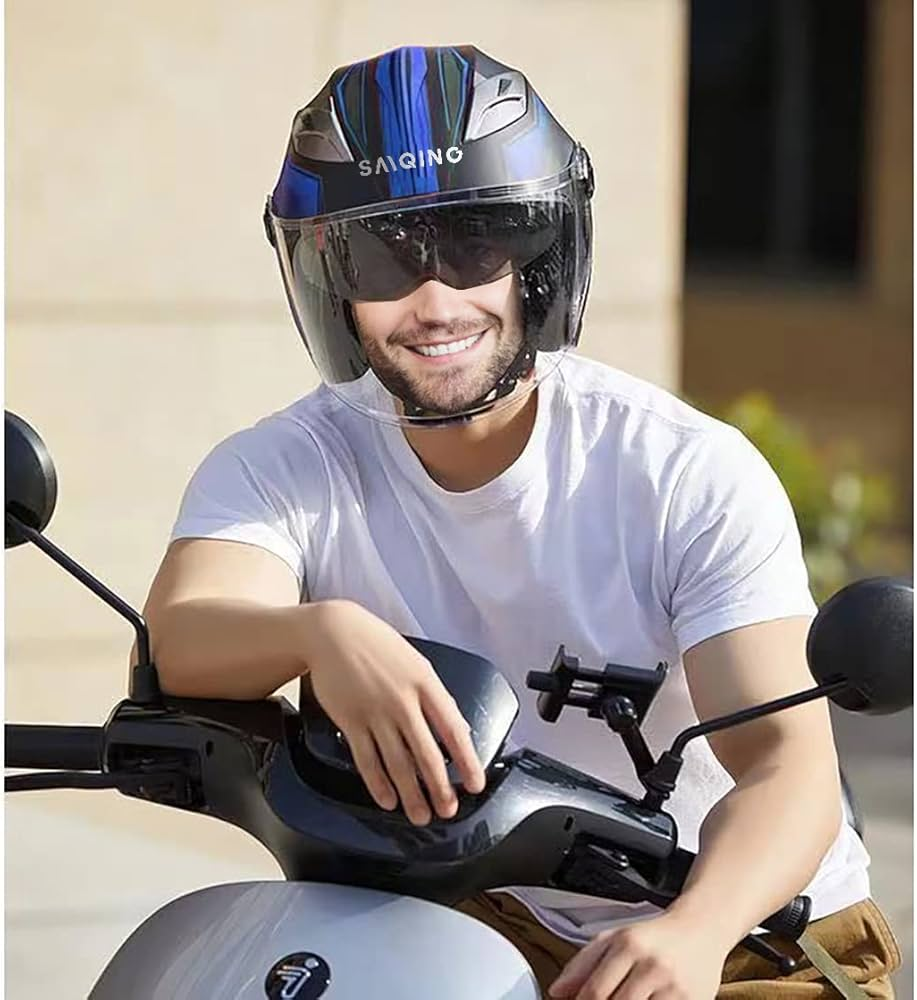helmets: (200, 25, 613, 412)
